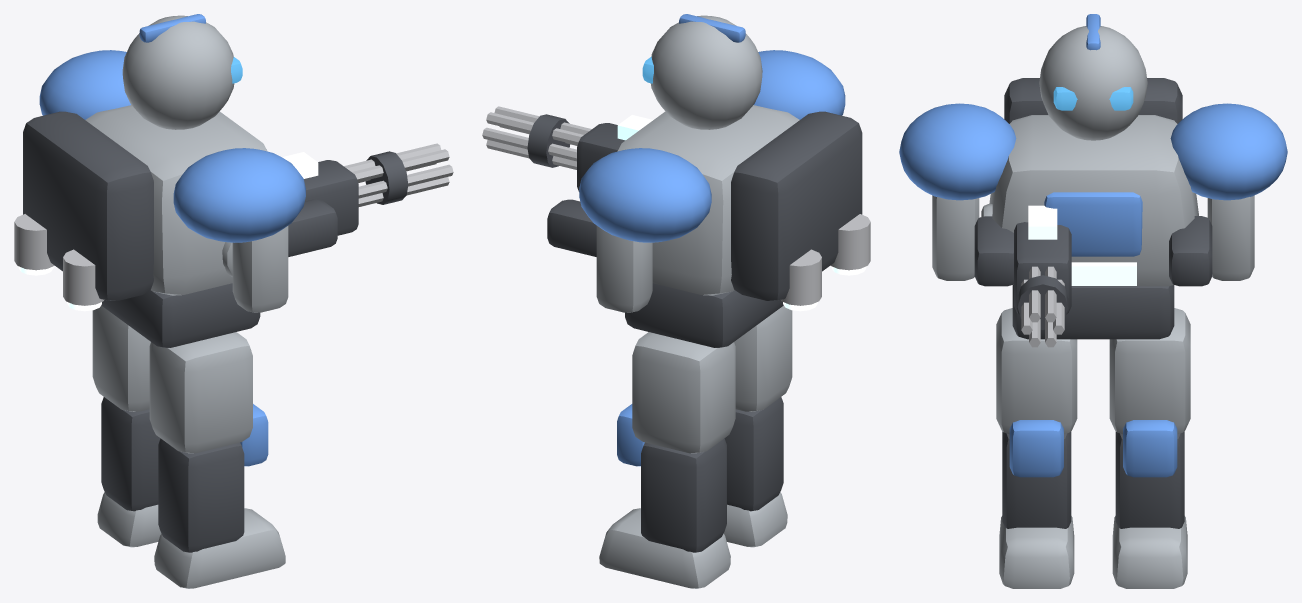
The model's file is hum_mg.glb.
The picture shows the model from 3 angles, left to right: view 1: azimuth 30°, elevation 25°; view 2: azimuth 150°, elevation 25°; view 3: azimuth 270°, elevation 25°; orthographic projection.
Parts seen in each view (by area): view 1: torso_m, knee_r_m, leg_r_m, knee_l_m, leg_l_m; view 2: torso_m, knee_l_m, leg_l_m, knee_r_m, leg_r_m; view 3: torso_m, knee_l_m, knee_r_m, leg_l_m, leg_r_m.
Part boxes in pixels (x1,y1,x2,y2): torso_m: (14, 14, 453, 347); knee_r_m: (154, 404, 285, 588); leg_r_m: (149, 332, 252, 453); knee_l_m: (97, 397, 161, 547); leg_l_m: (92, 305, 150, 411); torso_m: (482, 14, 870, 347); knee_l_m: (599, 404, 730, 588); leg_l_m: (632, 332, 735, 453); knee_r_m: (723, 397, 787, 547); leg_r_m: (734, 305, 792, 411); torso_m: (899, 14, 1287, 347); knee_l_m: (1112, 420, 1187, 588); knee_r_m: (999, 420, 1074, 588); leg_l_m: (1109, 308, 1190, 434); leg_r_m: (996, 308, 1077, 434).
Bounding box in the file's own units: 0.5992 × 0.81 × 0.5376.
